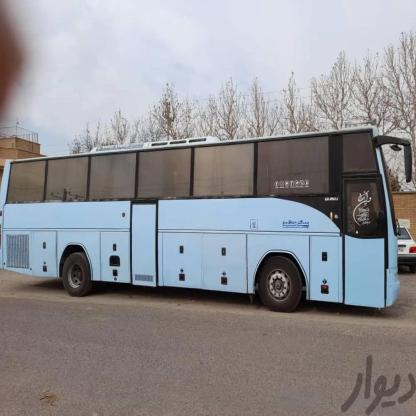Bus: (0, 126, 402, 318)
Car: (393, 223, 416, 276)
